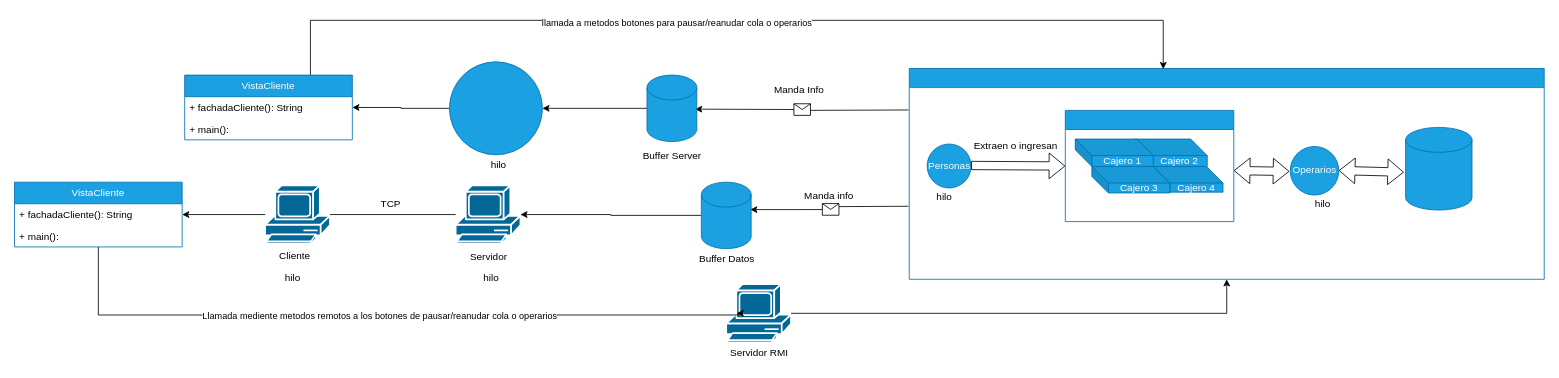
Some shapes in this 1559 by 378 pixel diagram are drawn without their labels. The shapes that lost their labels are listed below. From the top down, each one's box as (x1, y1, x2, y2) in pixels, then its label:
(449, 61, 542, 155): BufferConsuServer
(1064, 110, 1234, 222): BancoMonitor
(908, 68, 1544, 279): Logica del Servidor
(1405, 127, 1472, 210): Banco central
